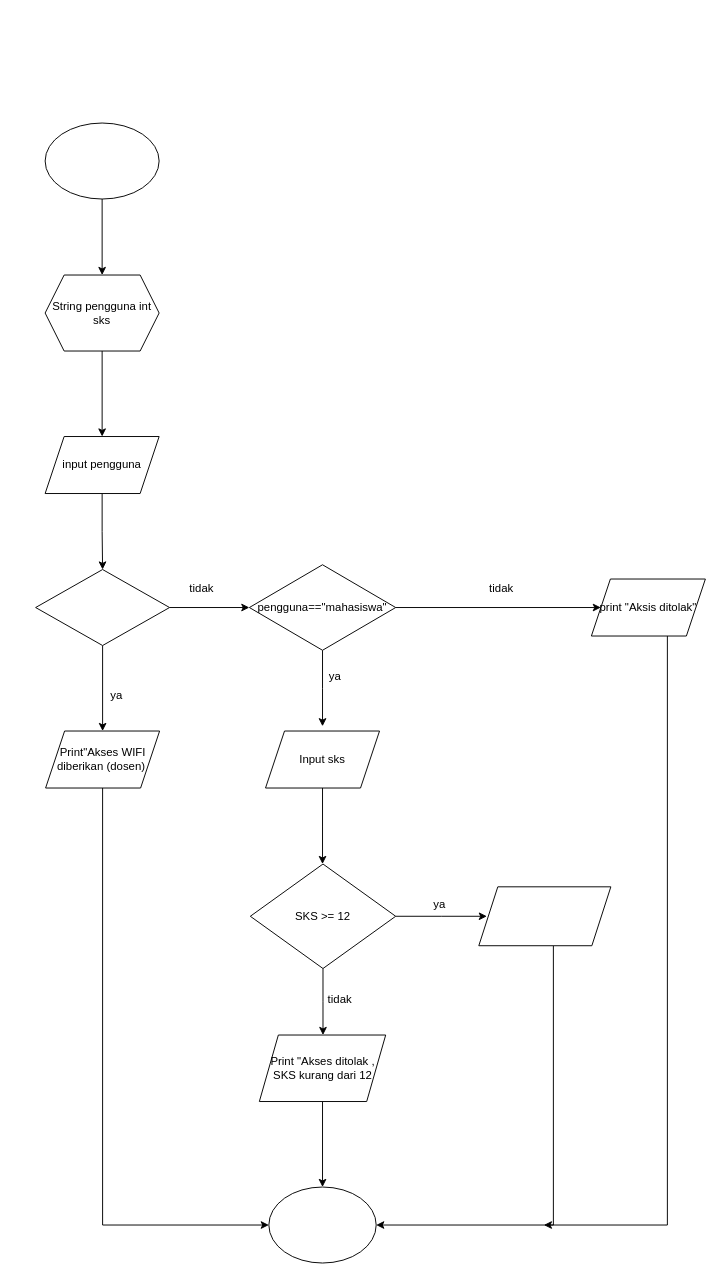
The diagram is 722 pixels wide and 1280 high, and some of its shapes have lost their labels. The shapes that lost their labels are listed below. From the top down, each one's centre as x and y in pixels, then its label:
the point at 101,160: start
the point at 102,607: pengguna=="dosen"
the point at 544,916: Print "Akses WIFI dibelikan (mahasiswa aktif)
the point at 322,1224: end
